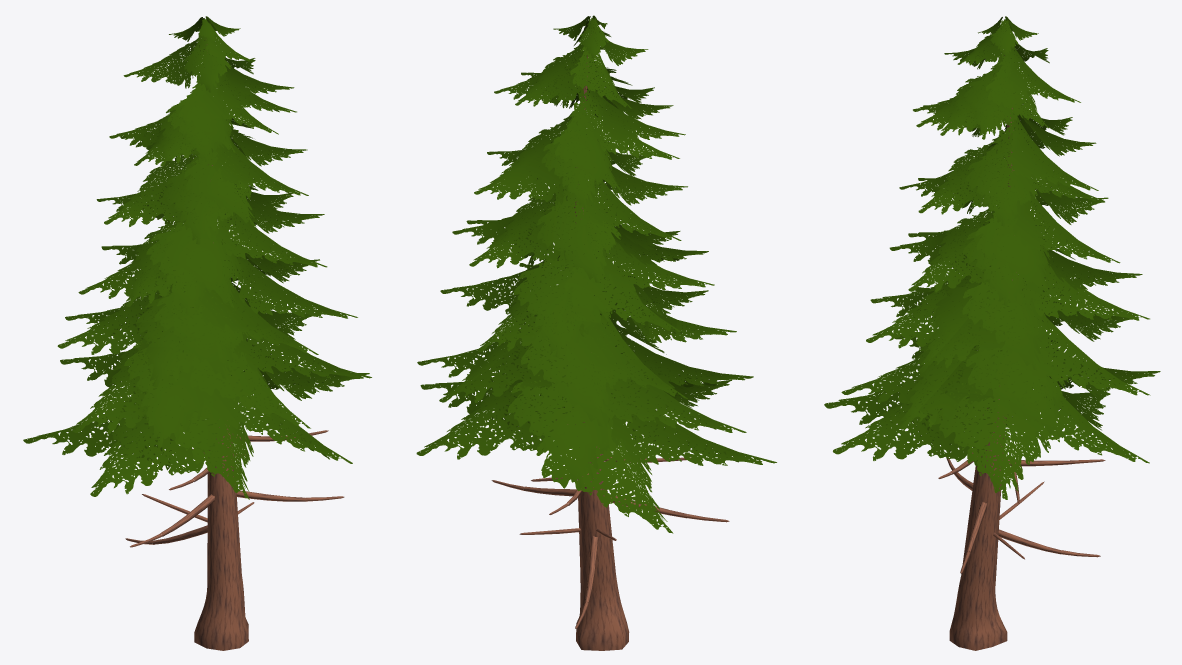
File: Pine_4.gltf
3 renders of one model, left to right at view 1: azimuth 30°, elevation 25°; view 2: azimuth 150°, elevation 25°; view 3: azimuth 270°, elevation 25°, orthographic. The views are drawn at different scales.
Visible parts, largest first — view 1: Pine_4; view 2: Pine_4; view 3: Pine_4.
Part boxes in pixels (<box>): Pine_4: <box>23,16,371,650</box>; Pine_4: <box>416,15,776,650</box>; Pine_4: <box>824,16,1160,650</box>.
Size of the model in its own units: 5.8 by 10.47 by 5.37.
2 materials, 2 textured.
